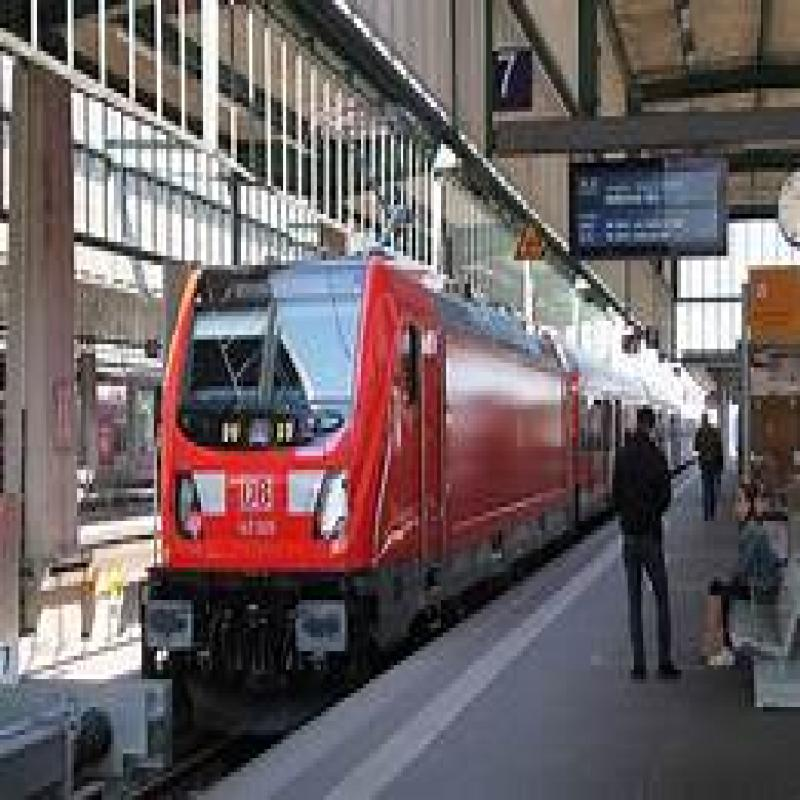train: (130, 215, 570, 657)
